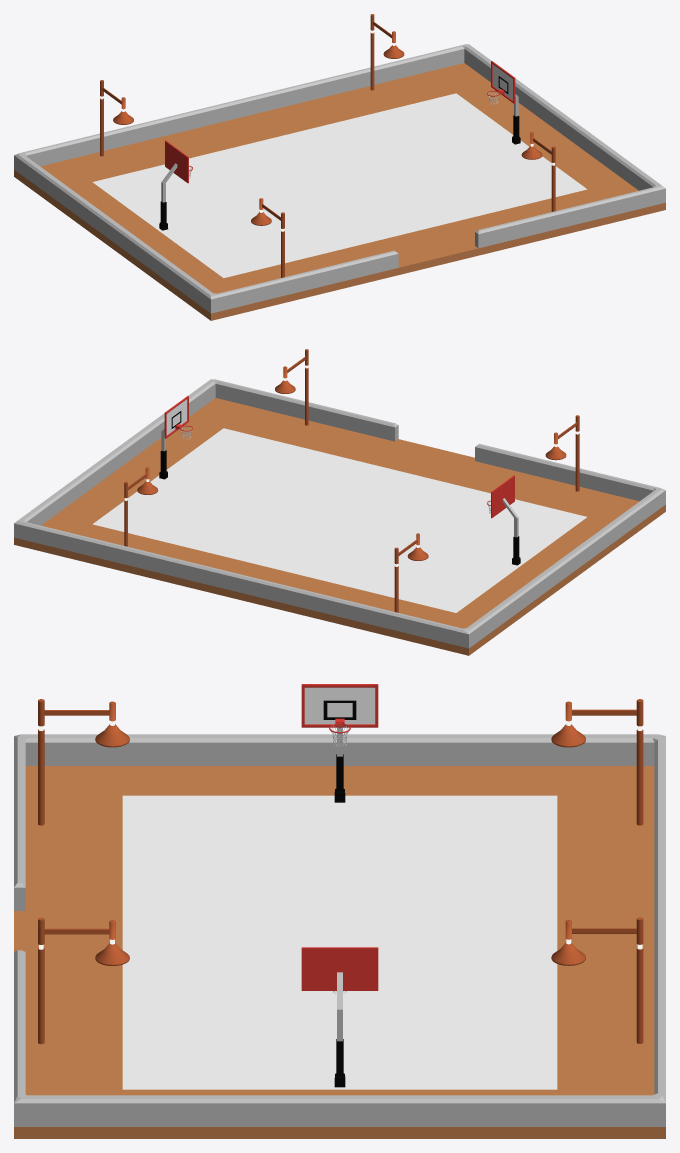
File: basketball_court.glb
The picture shows the model from 3 angles, top to bottom: view 1: azimuth 30°, elevation 25°; view 2: azimuth 150°, elevation 25°; view 3: azimuth 270°, elevation 25°; orthographic projection. The views are drawn at different scales.
Parts seen in each view (by area): view 1: Plane, Plane.001, Cylinder, Cylinder.001, Cylinder.005, Cylinder.002, Cylinder.004, Cylinder.003; view 2: Plane, Plane.001, Cylinder, Cylinder.001, Cylinder.003, Cylinder.004, Cylinder.002, Cylinder.005; view 3: Plane, Plane.001, Cylinder.001, Cylinder, Cylinder.004, Cylinder.005, Cylinder.002, Cylinder.003.
Part boxes in pixels (x1,y1,x2,y2): Plane: [14, 44, 665, 320]; Plane.001: [92, 93, 587, 277]; Cylinder: [487, 61, 520, 144]; Cylinder.001: [159, 140, 192, 230]; Cylinder.005: [370, 14, 404, 90]; Cylinder.002: [521, 132, 555, 211]; Cylinder.004: [100, 80, 133, 156]; Cylinder.003: [251, 198, 284, 277]; Plane: [14, 379, 665, 655]; Plane.001: [93, 428, 586, 612]; Cylinder: [159, 396, 192, 479]; Cylinder.001: [487, 475, 520, 565]; Cylinder.003: [545, 415, 579, 491]; Cylinder.004: [394, 533, 428, 612]; Cylinder.002: [275, 349, 308, 425]; Cylinder.005: [124, 467, 158, 546]; Plane: [14, 734, 665, 1138]; Plane.001: [122, 795, 557, 1089]; Cylinder.001: [301, 684, 378, 802]; Cylinder: [301, 947, 378, 1087]; Cylinder.004: [551, 699, 643, 825]; Cylinder.005: [551, 917, 643, 1043]; Cylinder.002: [38, 917, 129, 1044]; Cylinder.003: [38, 699, 129, 825].
Size of what is drawn, in the model's own units: 10 by 1.77 by 7.5.
